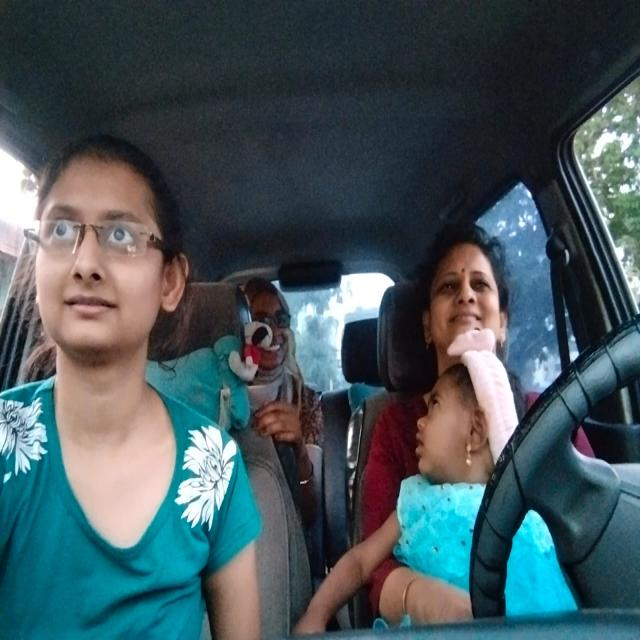child: (411, 328, 525, 500)
person: (26, 115, 196, 395), (418, 222, 516, 353), (245, 270, 299, 377)
